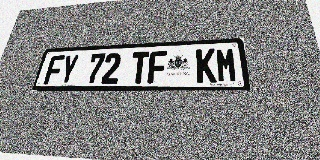2: (101, 53, 122, 84)
7: (85, 53, 106, 84)
F: (43, 55, 65, 85), (147, 51, 167, 83)
K: (196, 48, 217, 83)
M: (215, 48, 238, 83)
T: (129, 51, 149, 84)
Y: (58, 55, 79, 84)
